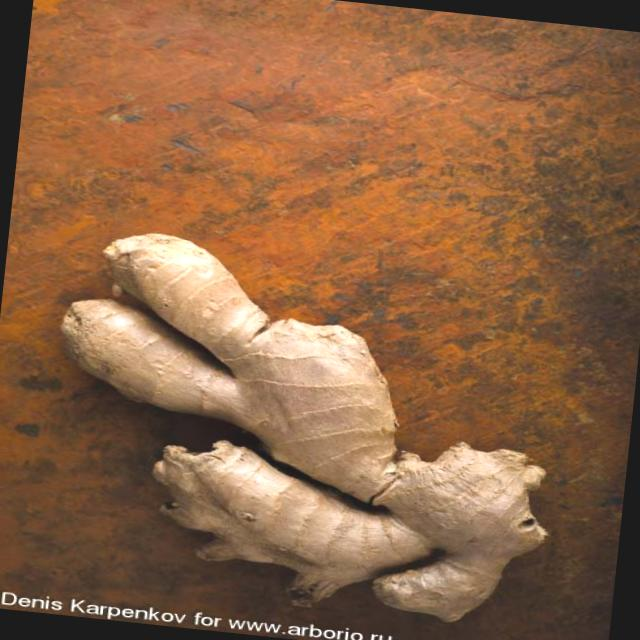lemon: (16, 217, 577, 640)
